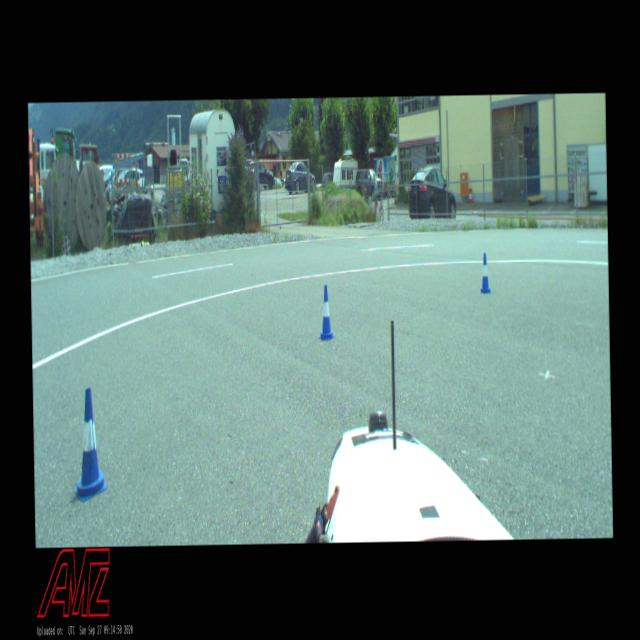blue_cone: (72, 386, 107, 502), (318, 284, 334, 340), (480, 252, 490, 293)
